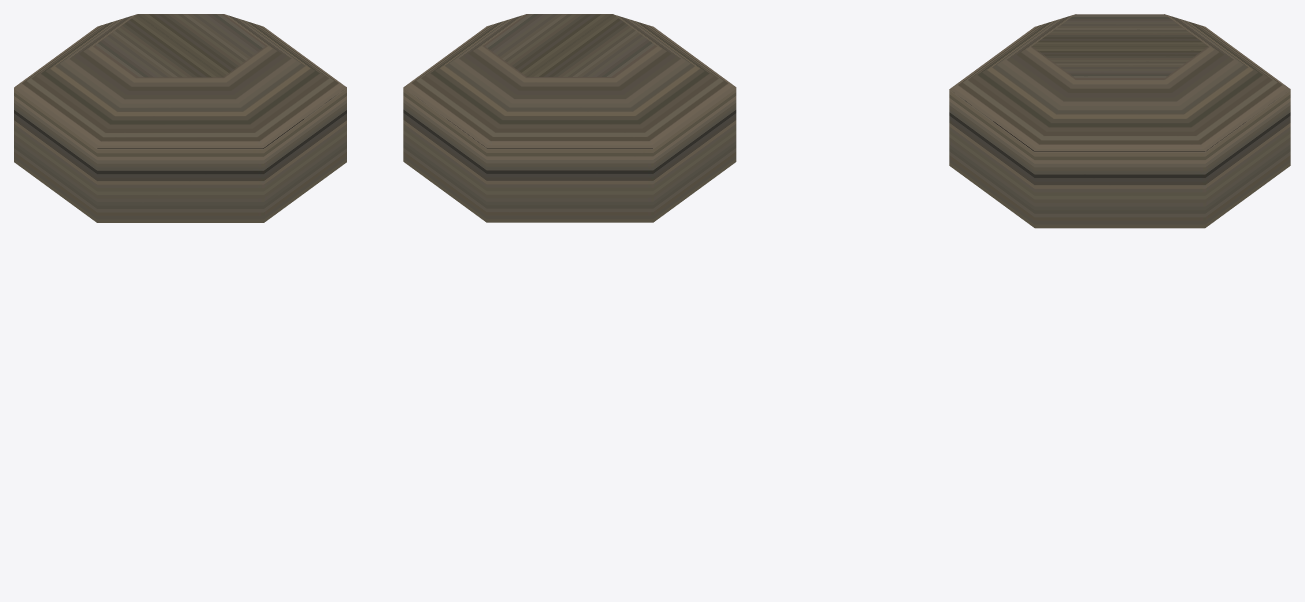
The model's file is autocannoncamo4_hdtex.glb.
3 renders of one model, left to right at view 1: azimuth 30°, elevation 25°; view 2: azimuth 150°, elevation 25°; view 3: azimuth 270°, elevation 25°, orthographic. The views are drawn at different scales.
Parts seen in each view (by area): view 1: Doorbase, Door05, Door06, Door03, Door02; view 2: Doorbase, Door02, Door06, Door03, Door05; view 3: Doorbase, Door03, Door05, Door02, Door06.
Part boxes in pixels (x1,y1,x2,y2): Doorbase: [14, 87, 346, 222]; Door05: [97, 45, 346, 148]; Door06: [14, 14, 223, 148]; Door03: [138, 14, 344, 85]; Door02: [14, 14, 251, 87]; Doorbase: [403, 26, 736, 222]; Door02: [404, 45, 652, 147]; Door06: [527, 14, 735, 147]; Door03: [404, 14, 612, 86]; Door05: [486, 14, 734, 86]; Doorbase: [949, 27, 1290, 228]; Door03: [1032, 46, 1207, 151]; Door05: [950, 14, 1076, 151]; Door02: [1164, 14, 1290, 151]; Door06: [1031, 14, 1207, 46].
Size of the model in its own units: 7.27 by 13.6 by 12.21.
Materials: 4 (4 with a texture image).
